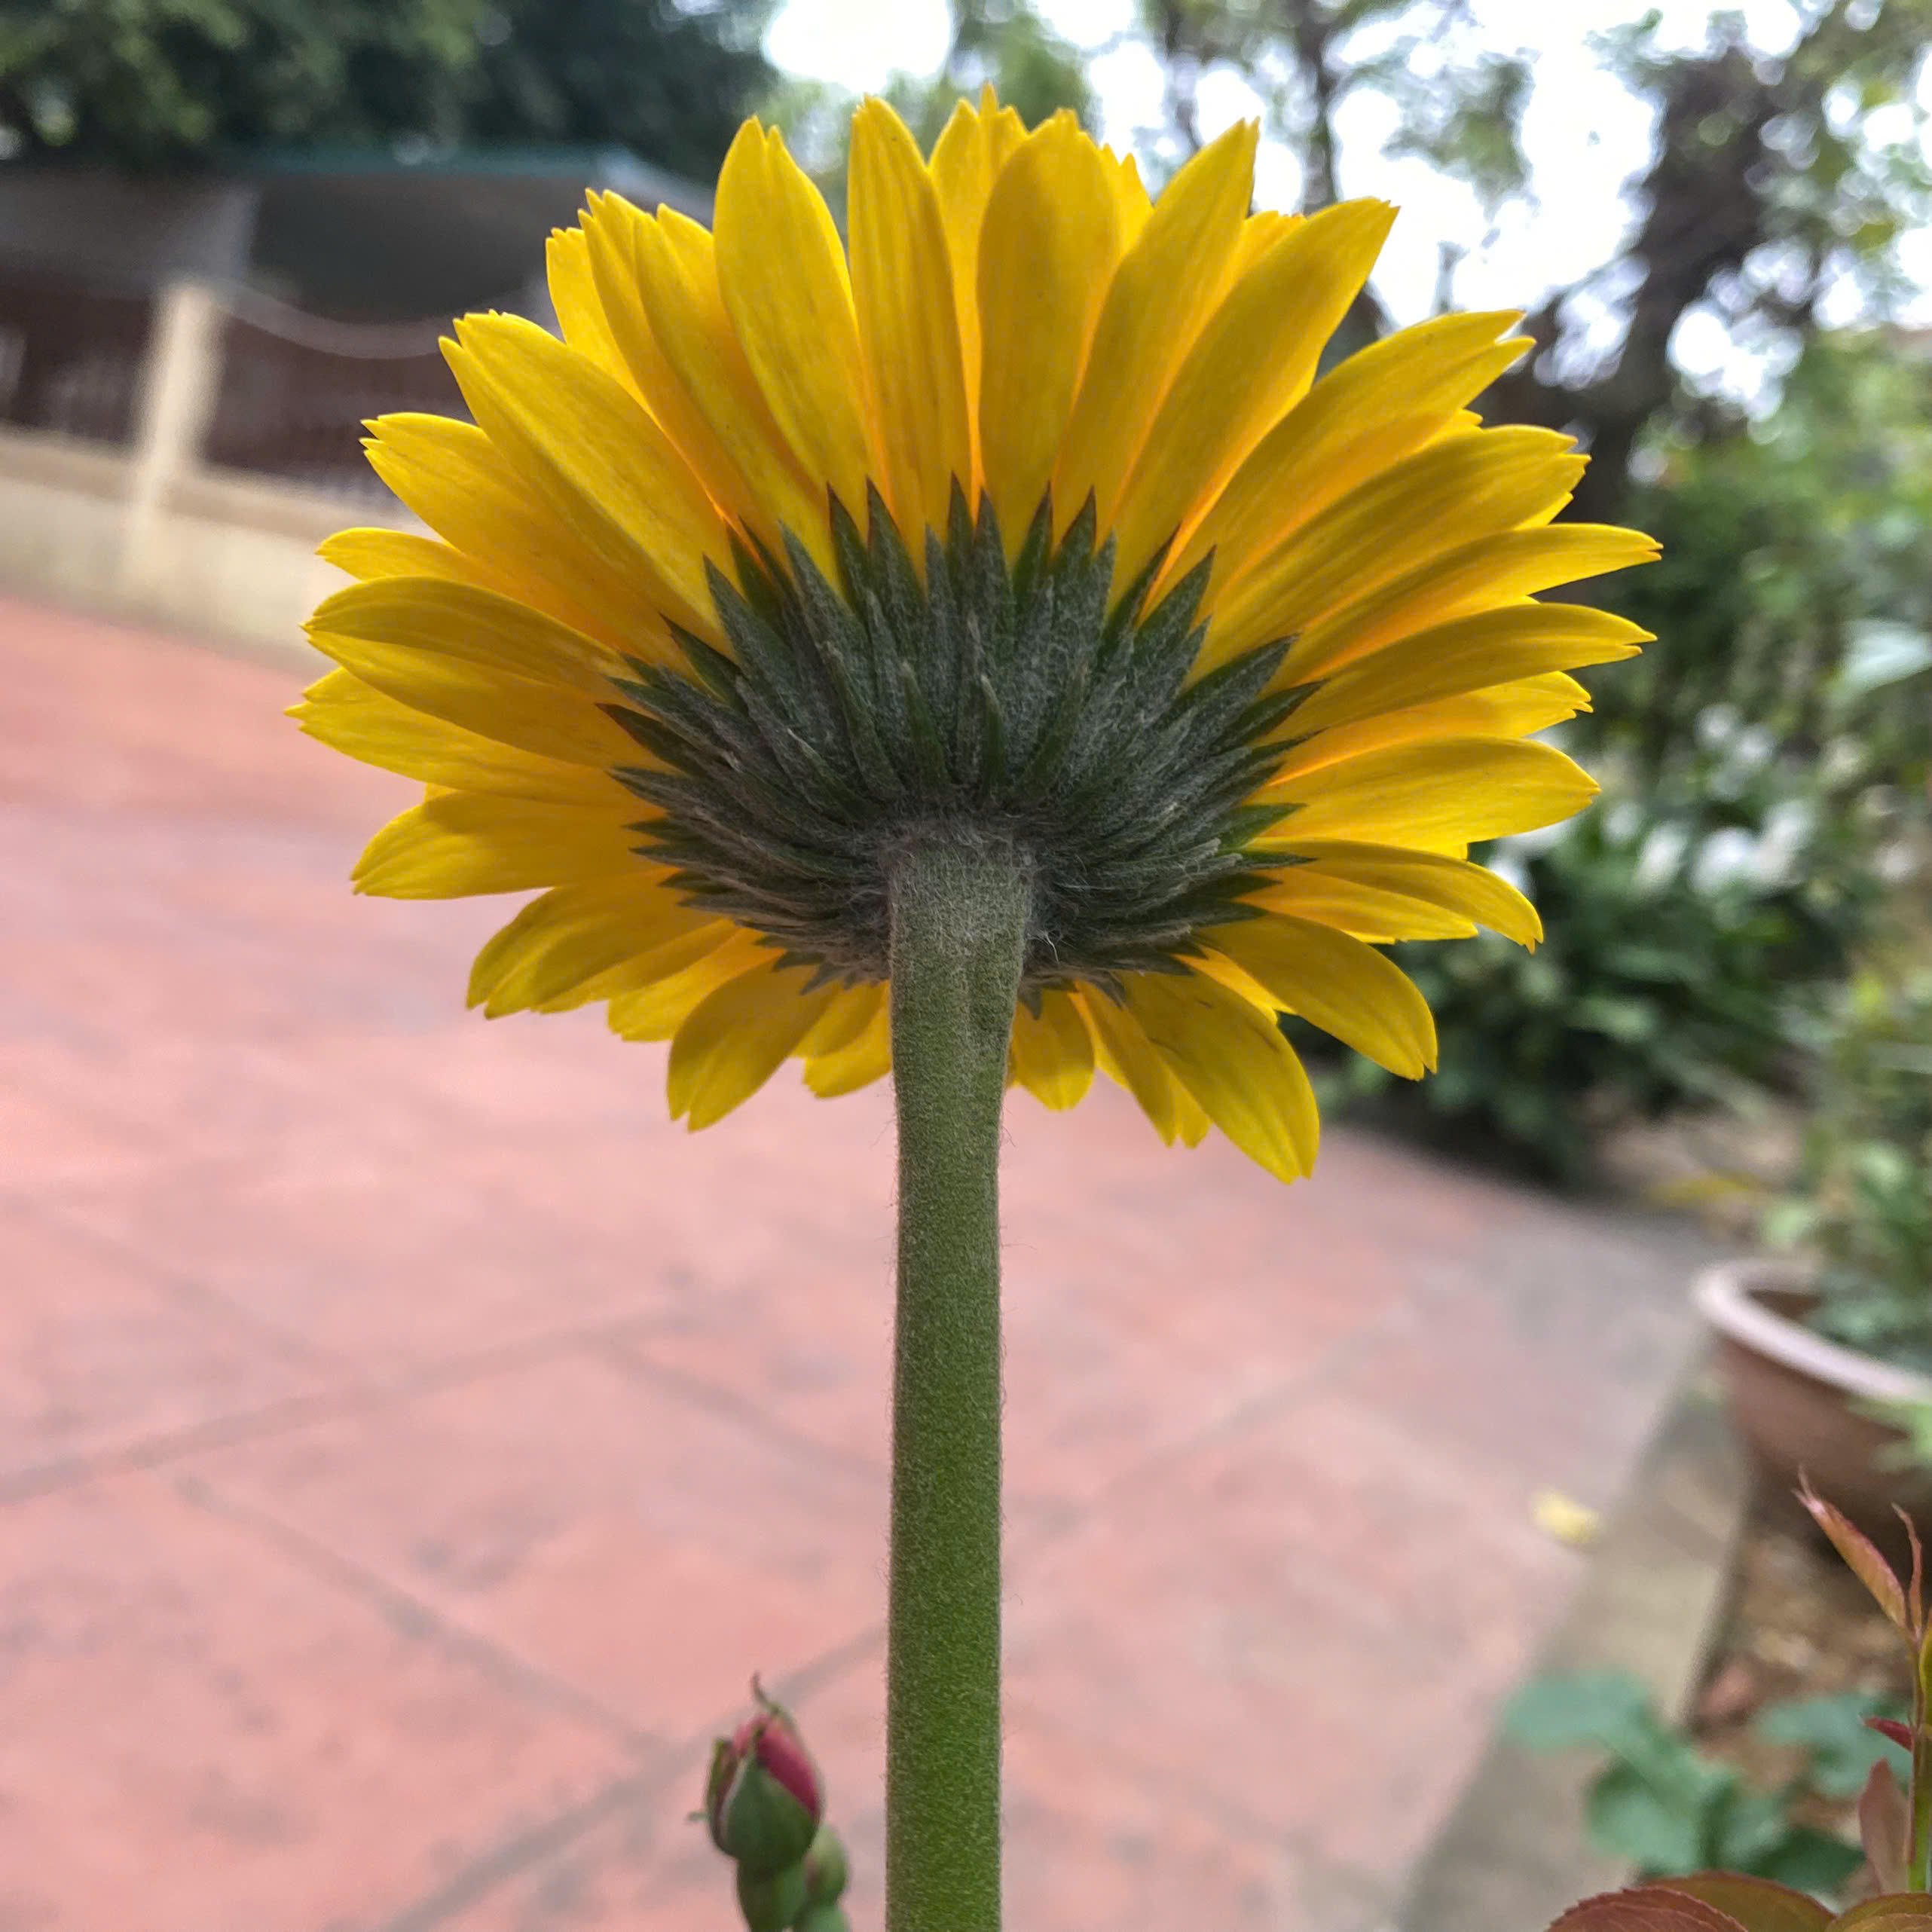hoa_huong_duong: (242, 81, 1695, 1932)
